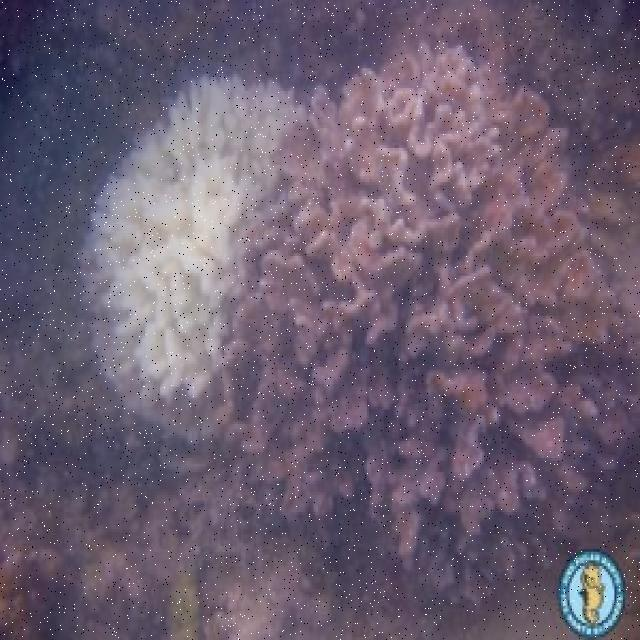Bleached: (94, 71, 312, 426)
Healthy: (241, 43, 620, 600)
